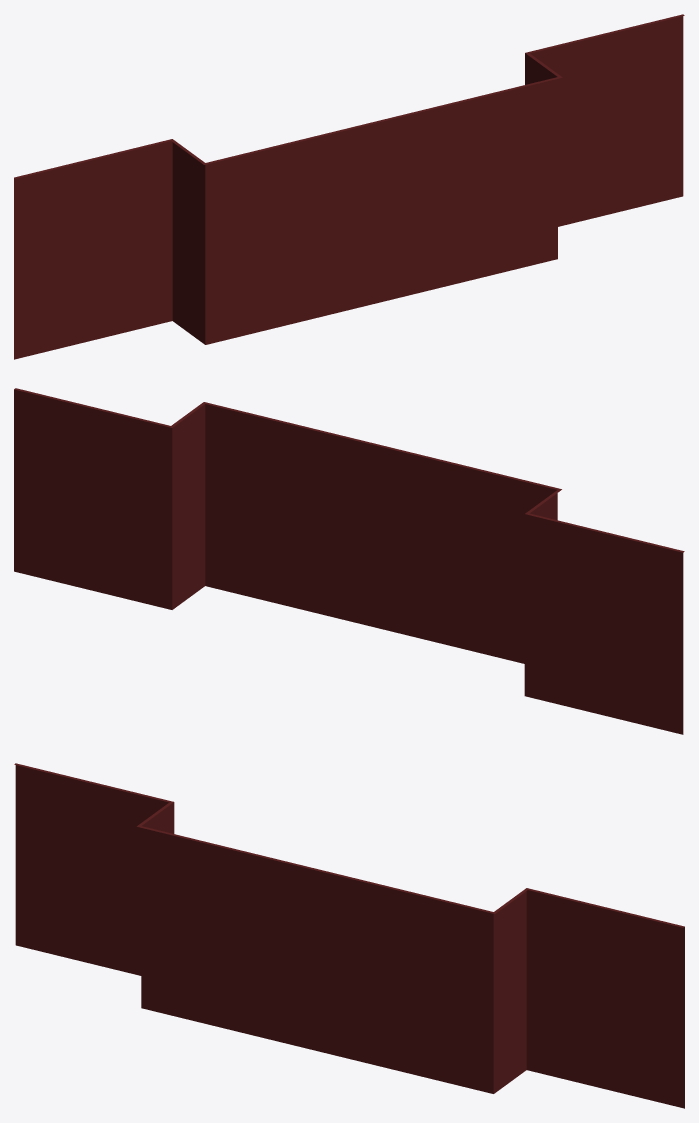
Rendered from p55-wall-endface-2-base.fbx.
The picture shows the model from 3 angles, top to bottom: view 1: azimuth 30°, elevation 25°; view 2: azimuth 150°, elevation 25°; view 3: azimuth 330°, elevation 25°; orthographic projection.
Visible parts, largest first — view 1: p55-wall-endface-2-base; view 2: p55-wall-endface-2-base; view 3: p55-wall-endface-2-base.
Boxes of the visible parts, x1,y1,x2,y2 form: p55-wall-endface-2-base: (14, 14, 684, 359); p55-wall-endface-2-base: (14, 388, 684, 734); p55-wall-endface-2-base: (14, 763, 684, 1108).
Bounding box in the file's own units: 1077 × 280 × 96.83.
